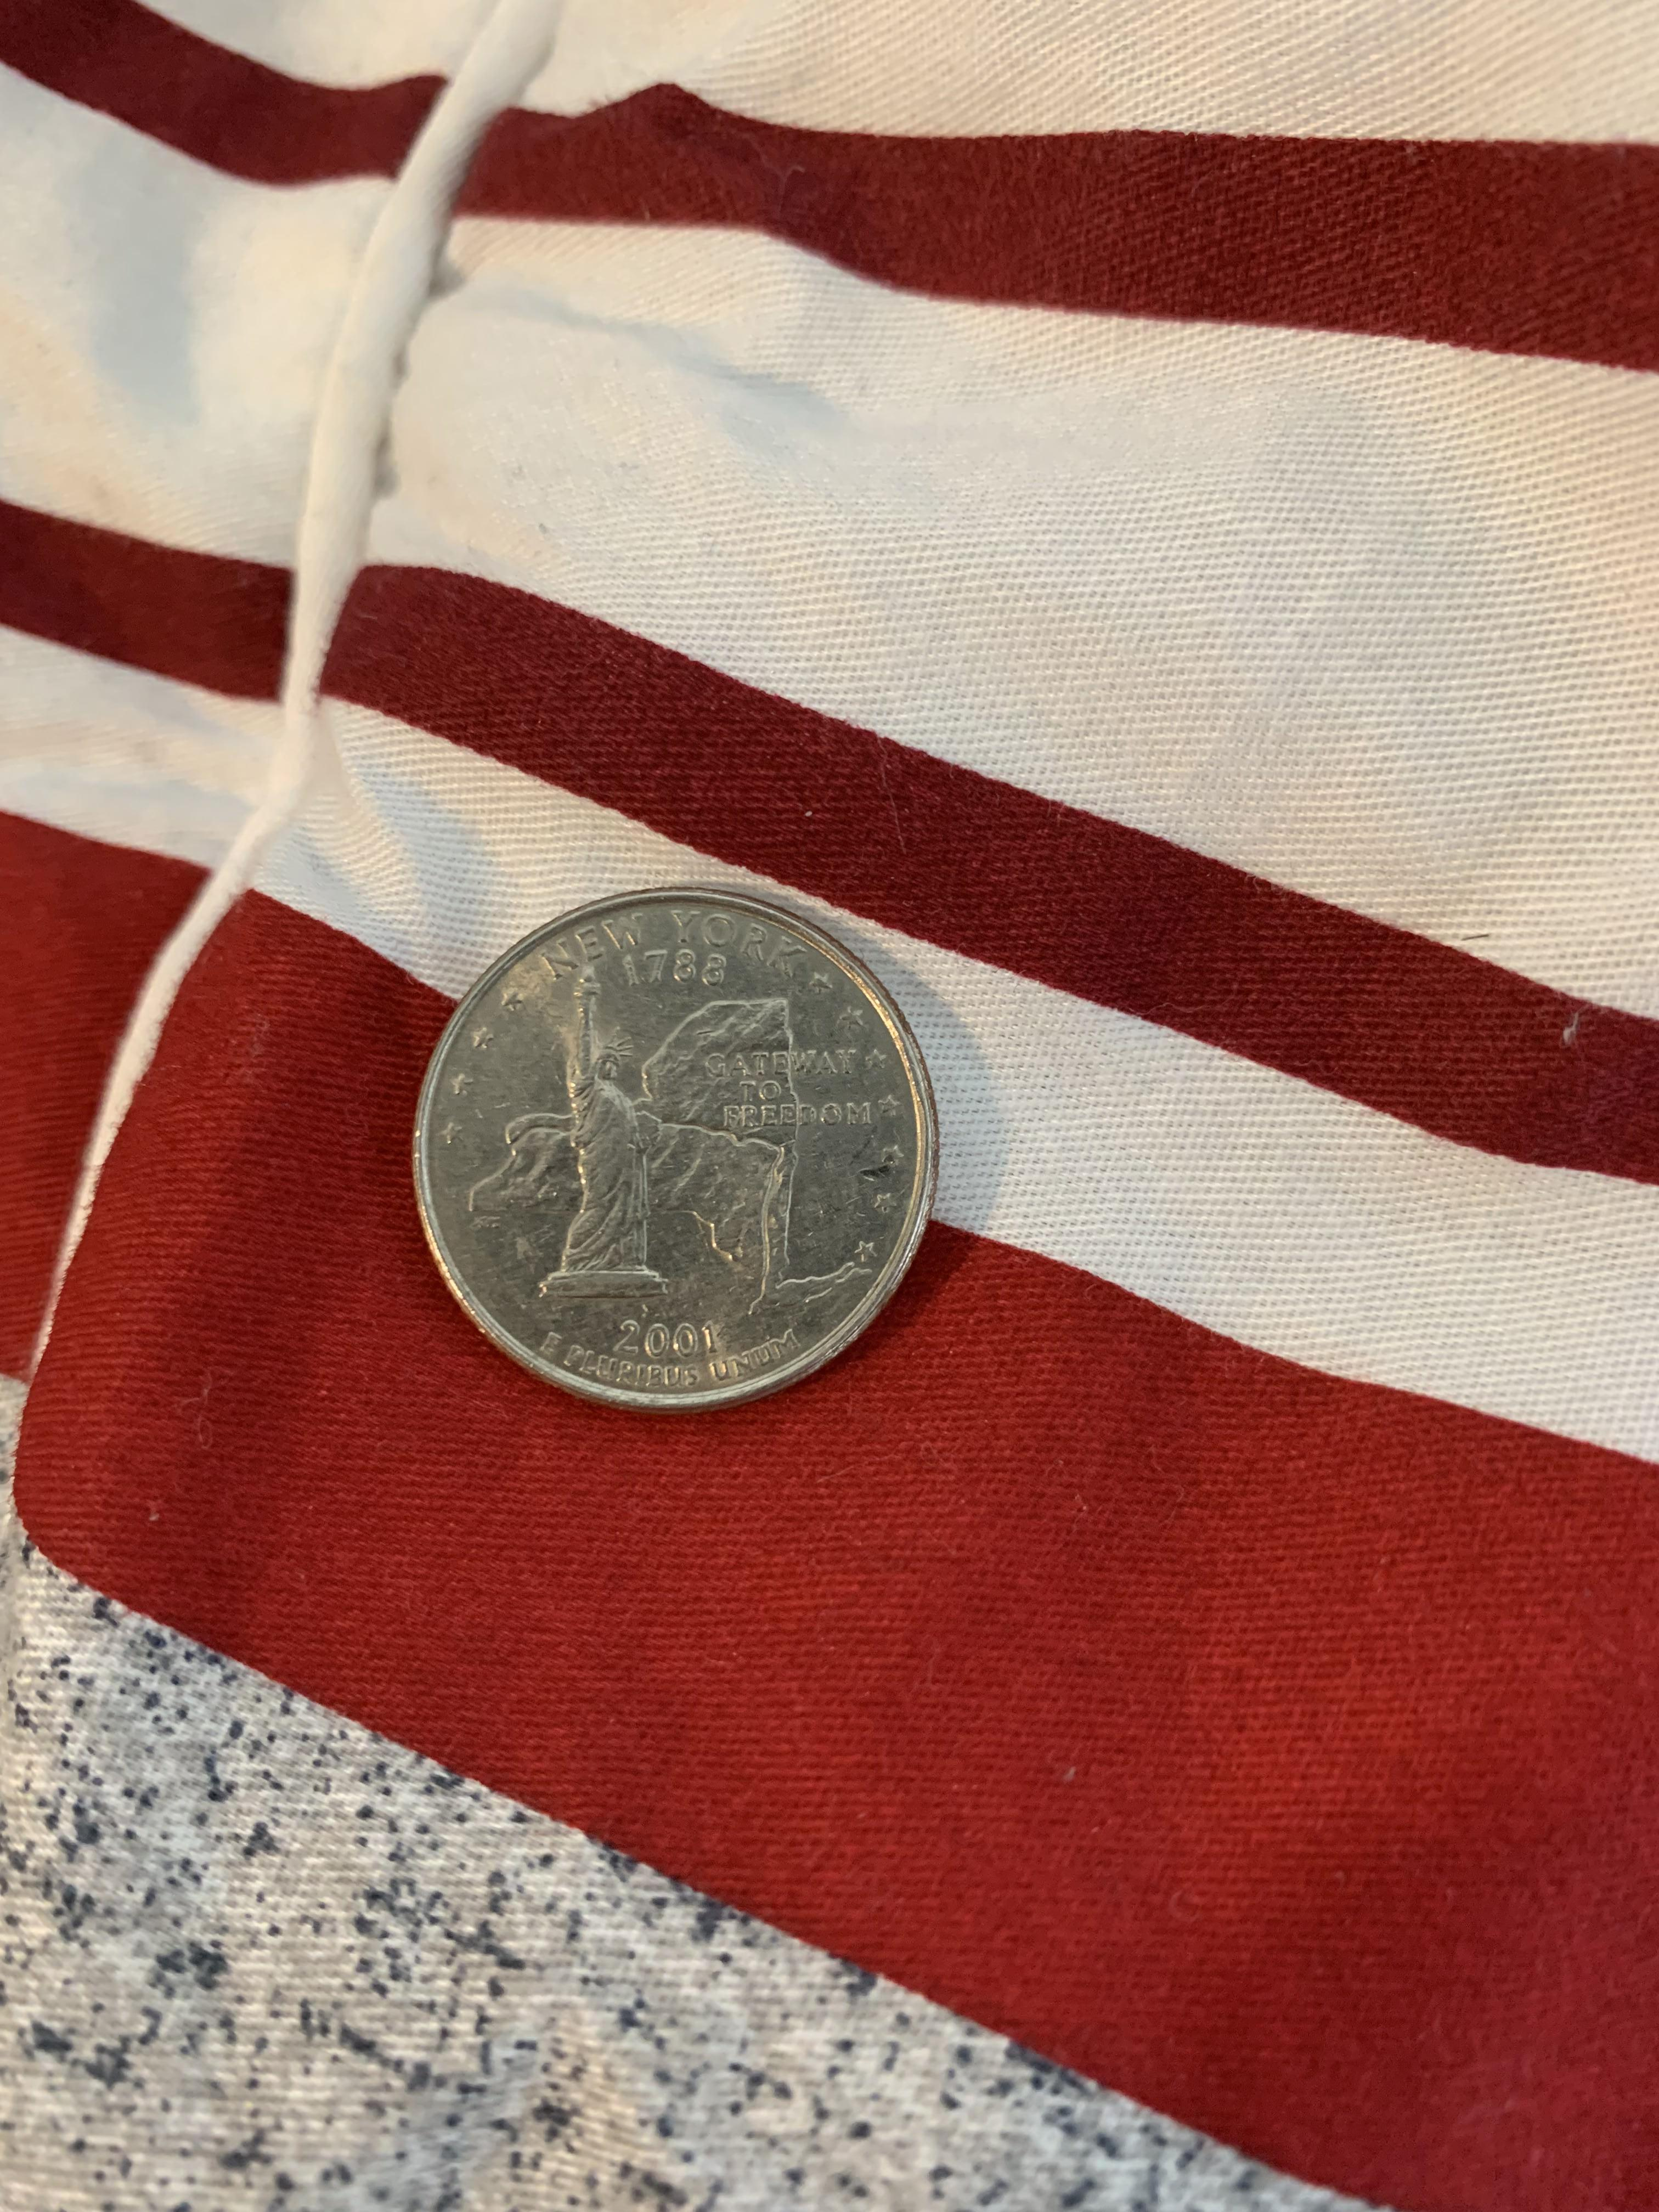Quarter: (390, 871, 964, 1423)
